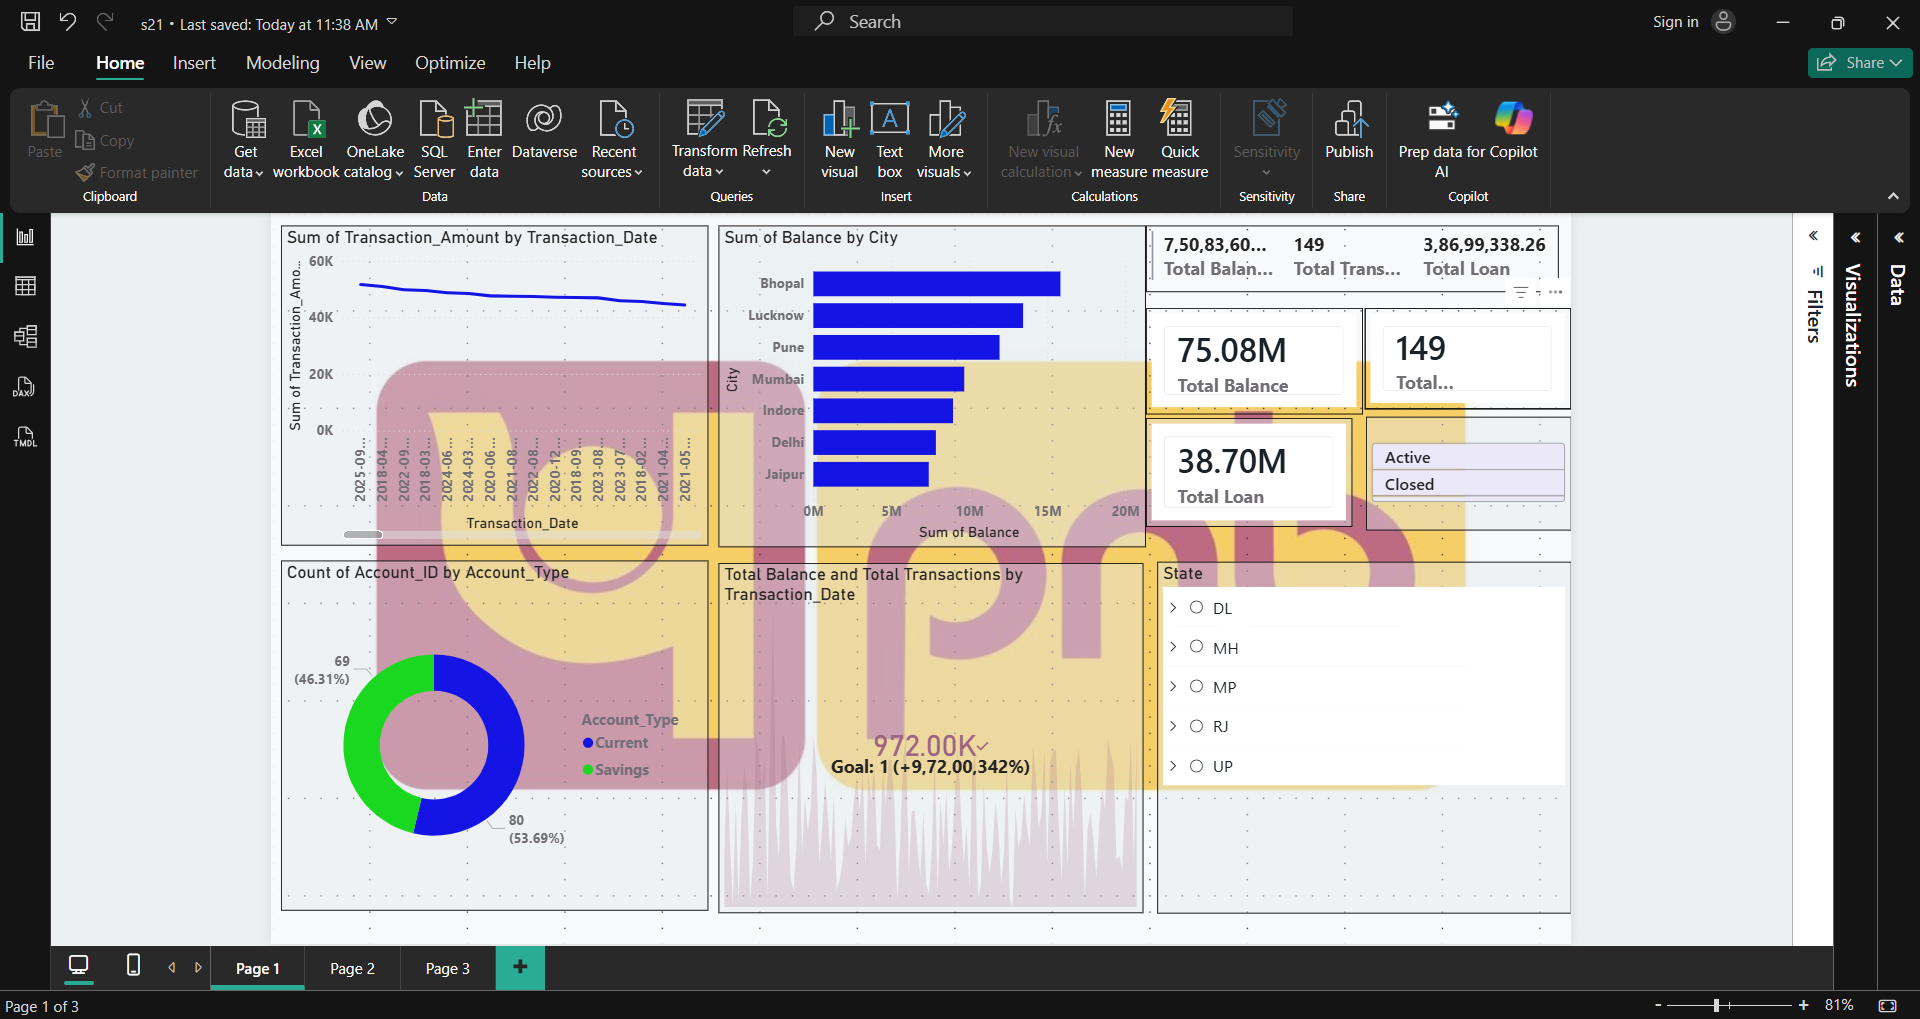

The page's visual inventory and layout, read from the dashboard file:
{"tool":"powerbi","page":{"name":"Page 1","canvas":[1280,720],"ordinal":0},"visuals":[{"type":"lineChart","fields":{"Category":["s21 bank_system_10000_records.Transaction_Date"],"Y":["Sum(s21 bank_system_10000_records.Transaction_Amount)"]},"box":[10,12.9,421,315.1],"z":0},{"type":"donutChart","fields":{"Category":["s21 bank_system_10000_records.Account_Type"],"Y":["CountNonNull(s21 bank_system_10000_records.Account_ID)"]},"box":[10,342.3,421,345.1],"z":1000},{"type":"clusteredBarChart","fields":{"Category":["s21 bank_system_10000_records.City"],"Y":["Sum(s21 bank_system_10000_records.Balance)"]},"box":[441.1,12.9,421,316.5],"z":2000},{"type":"multiRowCard","fields":{"Values":["bank_data.Total Balance","bank_data.Total Transactions","bank_data.Total Loan"]},"box":[862.1,12.9,406.7,65.9],"z":3000},{"type":"listSlicer","fields":{"Values":["s21 bank_system_10000_records.State","s21 bank_system_10000_records.City"]},"box":[872,343,408,346],"z":4000},{"type":"kpi","fields":{"Indicator":["bank_data.Total Balance"],"TrendLine":["bank_data.Transaction_Date"],"Goal":["bank_data.Total Transactions"]},"box":[441.1,345.1,418.2,345.1],"z":5000},{"type":"cardVisual","fields":{"Data":["bank_data.Total Balance"]},"box":[862.1,93.1,213.4,104.5],"z":6000},{"type":"cardVisual","fields":{"Data":["bank_data.Total Loan"]},"box":[862.1,201.9,203.4,107.4],"z":7000},{"type":"cardVisual","fields":{"Data":["bank_data.Total Transactions"]},"box":[1076.9,93.1,203.4,100.2],"z":8000},{"type":"cardVisual","fields":{"Data":["Sum(bank_data.Loan_Amount)","bank_data.Loan Approval %"],"Rows":["bank_data.Loan_Status"]},"box":[1077.8,200.7,202.2,112],"z":9000}]}

Visuals, with their boxes on the page's 1280x720 design canvas (x1, y1, x2, y2). These are canvas units, not pixel positions in the 1920x1019 screenshot, which may show the page scaled, cropped or inside an application window:
lineChart - s21 bank_system_10000_records.Transaction_Date x Sum(s21 bank_system_10000_records.Transaction_Amount): [10, 13, 431, 328]
donutChart - s21 bank_system_10000_records.Account_Type x CountNonNull(s21 bank_system_10000_records.Account_ID): [10, 342, 431, 687]
clusteredBarChart - s21 bank_system_10000_records.City x Sum(s21 bank_system_10000_records.Balance): [441, 13, 862, 329]
multiRowCard - bank_data.Total Balance x bank_data.Total Transactions: [862, 13, 1269, 79]
listSlicer - s21 bank_system_10000_records.State x s21 bank_system_10000_records.City: [872, 343, 1280, 689]
kpi - bank_data.Total Balance x bank_data.Transaction_Date: [441, 345, 859, 690]
cardVisual - bank_data.Total Balance: [862, 93, 1076, 198]
cardVisual - bank_data.Total Loan: [862, 202, 1066, 309]
cardVisual - bank_data.Total Transactions: [1077, 93, 1280, 193]
cardVisual - Sum(bank_data.Loan_Amount) x bank_data.Loan Approval %: [1078, 201, 1280, 313]
